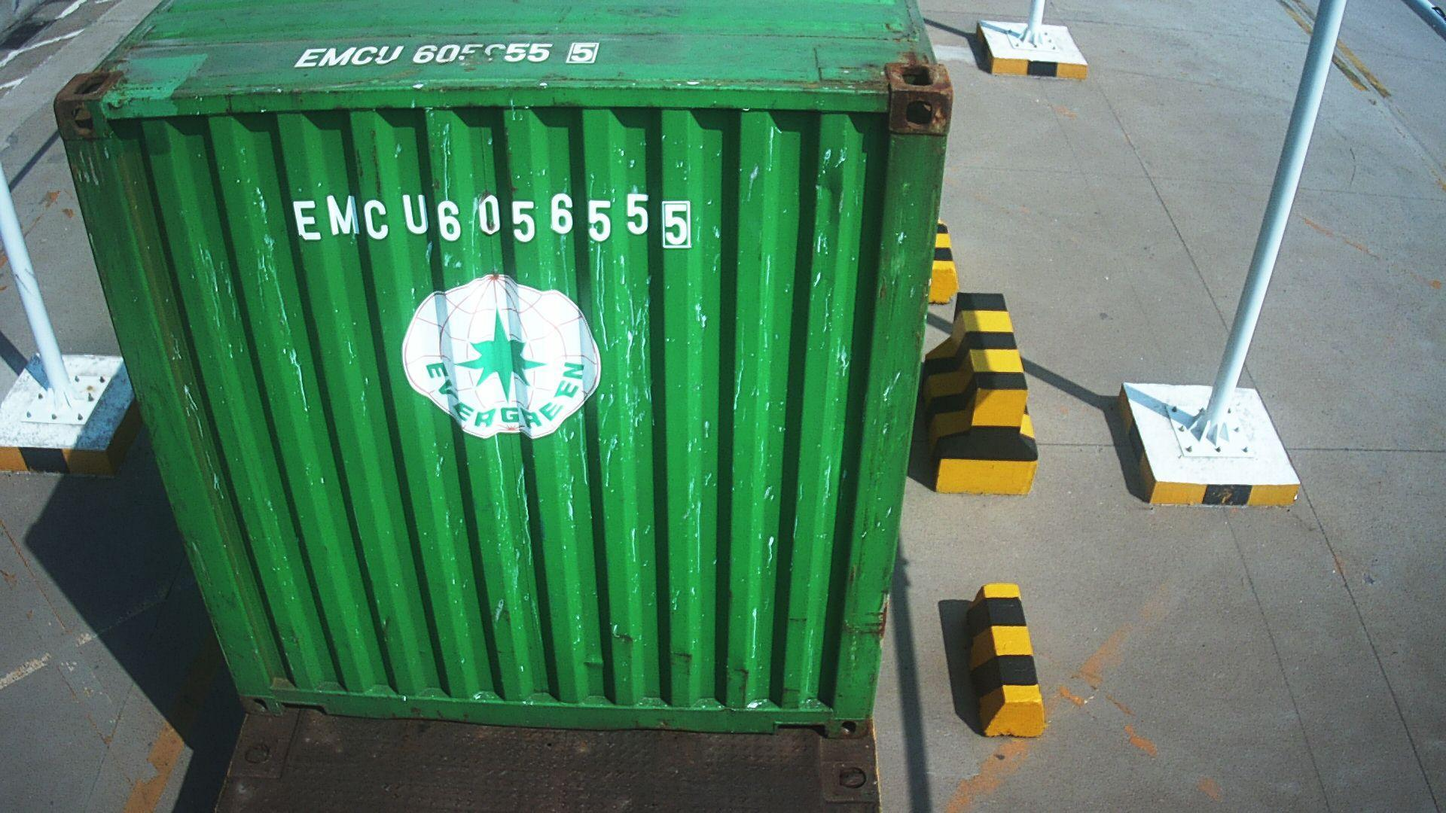container-numbers: (282, 186, 703, 250), (285, 38, 608, 70)
